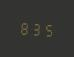eight: (18, 18, 29, 36)
five: (43, 20, 54, 38)
three: (31, 19, 42, 37)
